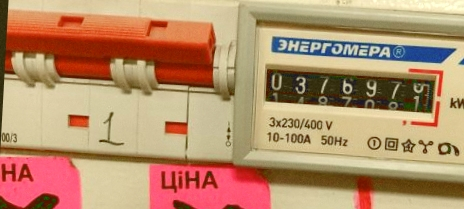0: (269, 70, 283, 91)
1: (410, 93, 422, 111)
3: (293, 73, 307, 94)
6: (340, 73, 354, 95)
7: (316, 73, 330, 94), (388, 78, 401, 100)
9: (364, 76, 377, 98)
screen: (254, 54, 448, 128)
